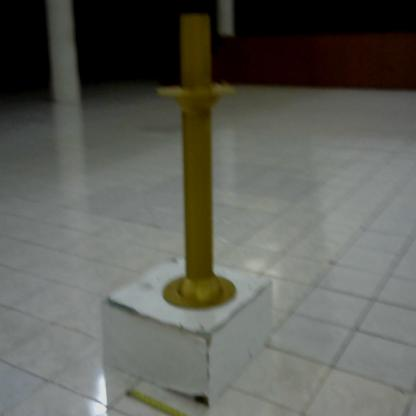pole: (151, 5, 246, 322)
